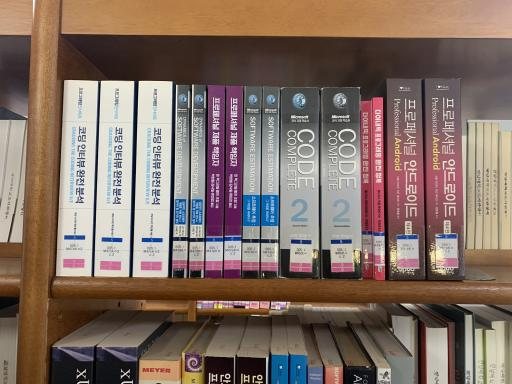book-spine: (55, 80, 99, 277), (94, 81, 134, 277), (321, 88, 362, 279), (426, 78, 464, 280), (387, 79, 425, 280), (133, 82, 172, 277), (280, 88, 319, 279), (205, 85, 225, 278), (172, 85, 190, 278), (225, 86, 243, 278), (243, 86, 261, 278), (261, 87, 279, 278), (190, 85, 206, 278), (373, 98, 385, 279), (361, 101, 372, 278)
